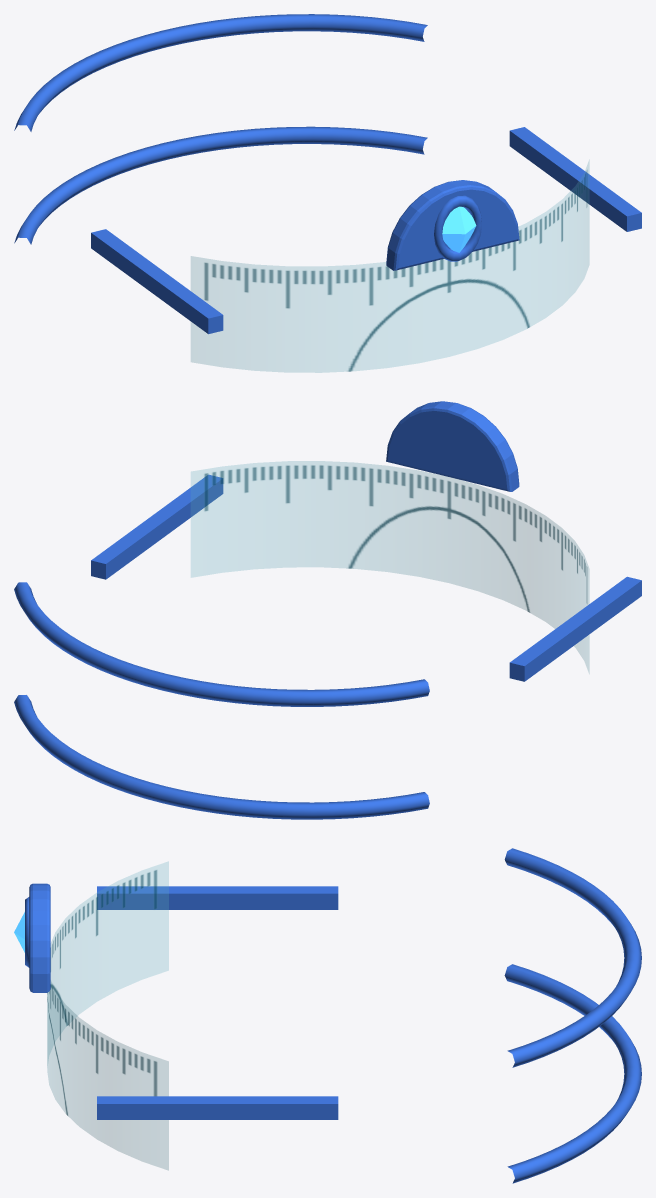
The model's file is gl_eqsu1.glb.
The picture shows the model from 3 angles, top to bottom: view 1: azimuth 30°, elevation 25°; view 2: azimuth 150°, elevation 25°; view 3: azimuth 270°, elevation 25°; orthographic projection. The views are drawn at different scales.
Size of the model in its own units: 2.23 by 0.9107 by 2.72.
Materials: 3 (1 with a texture image).
